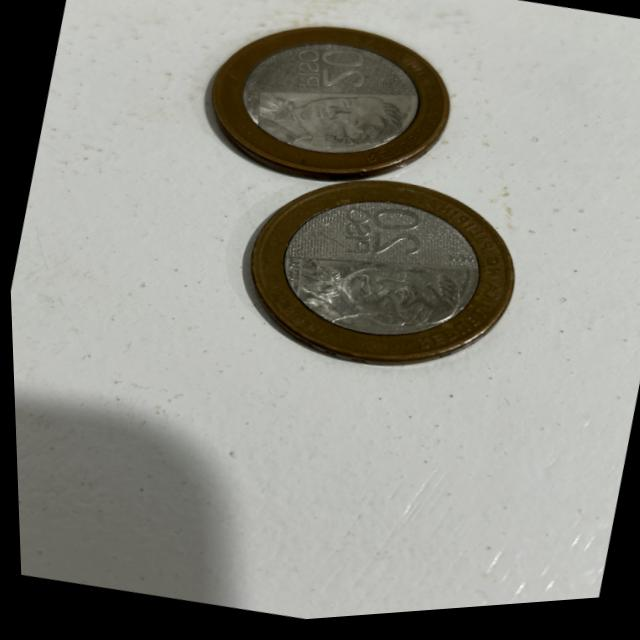20_New_Front: (322, 191, 433, 284), (280, 34, 384, 110)
